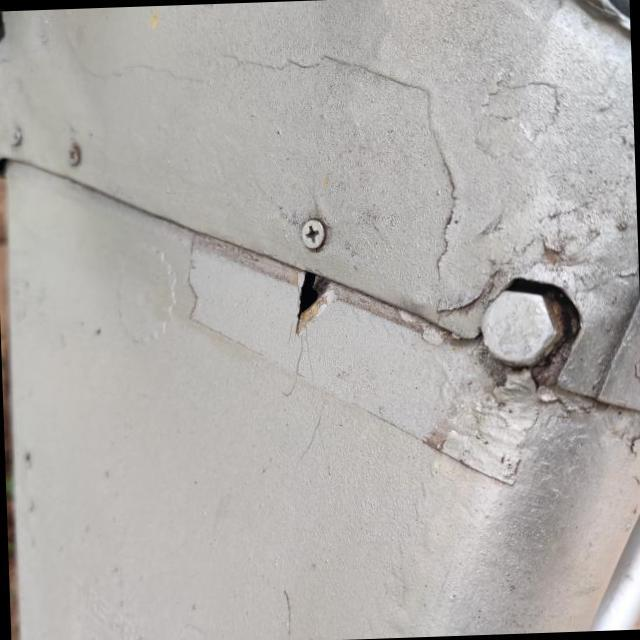Rupture: (262, 252, 362, 362)
